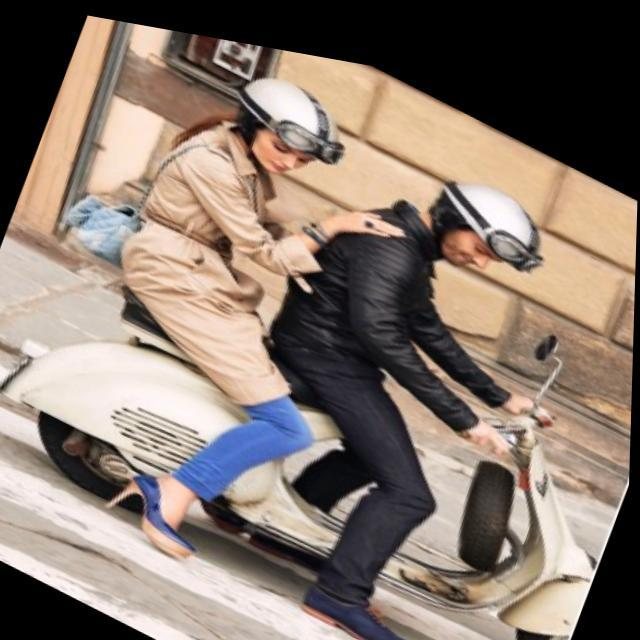Helmet: (216, 68, 354, 190), (416, 164, 552, 281)
